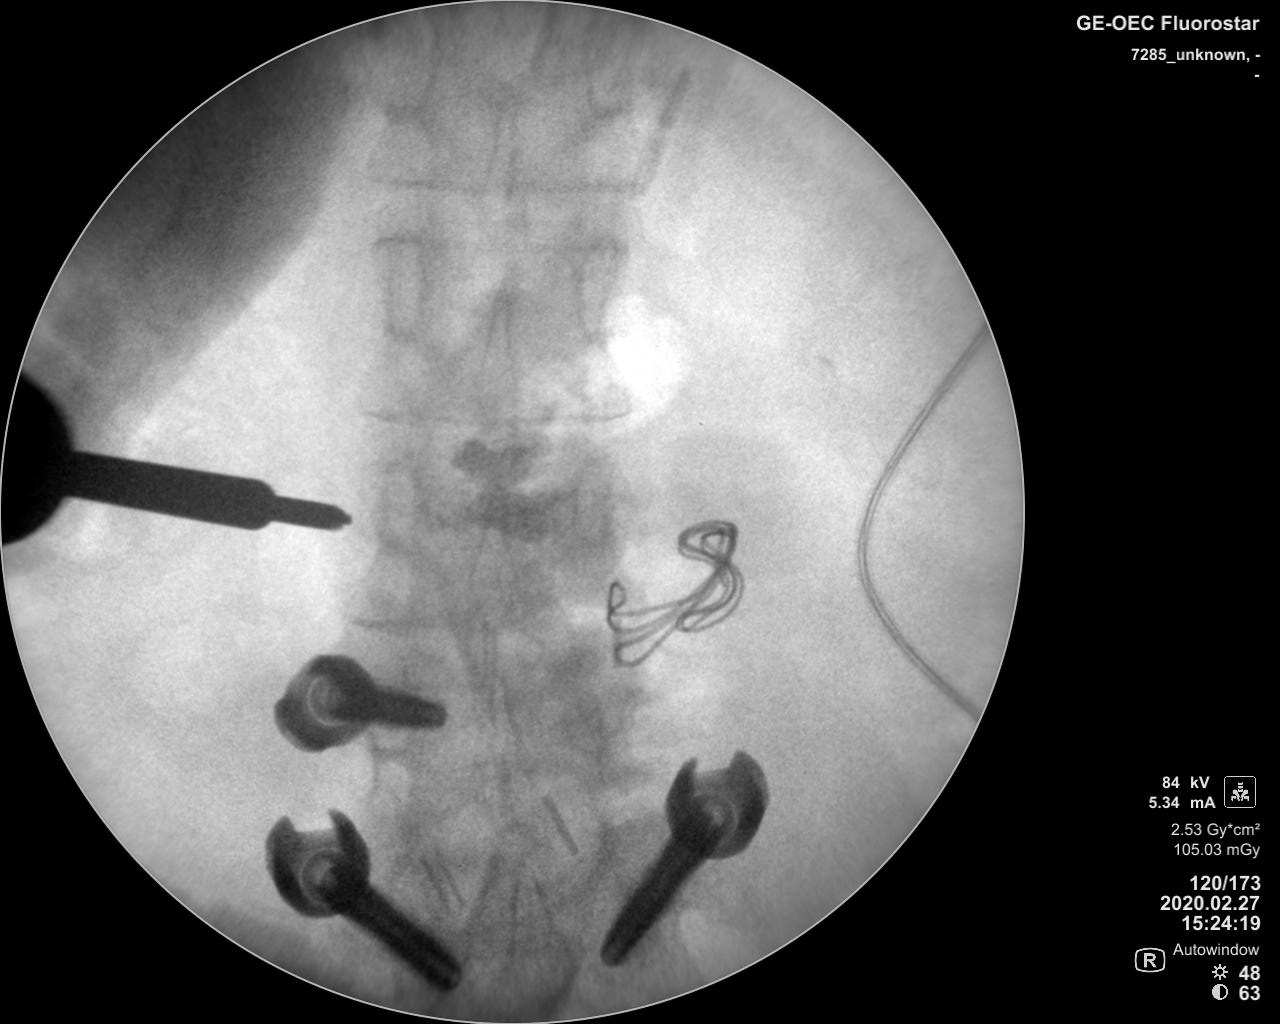eyes: (377, 13, 439, 121), (584, 9, 638, 118), (378, 231, 428, 340), (374, 462, 423, 554), (573, 449, 616, 548), (577, 236, 616, 342)
line: (368, 166, 651, 197), (353, 401, 642, 425)
nose: (505, 869, 573, 1017), (463, 486, 519, 630), (473, 283, 518, 436), (469, 100, 516, 225)
